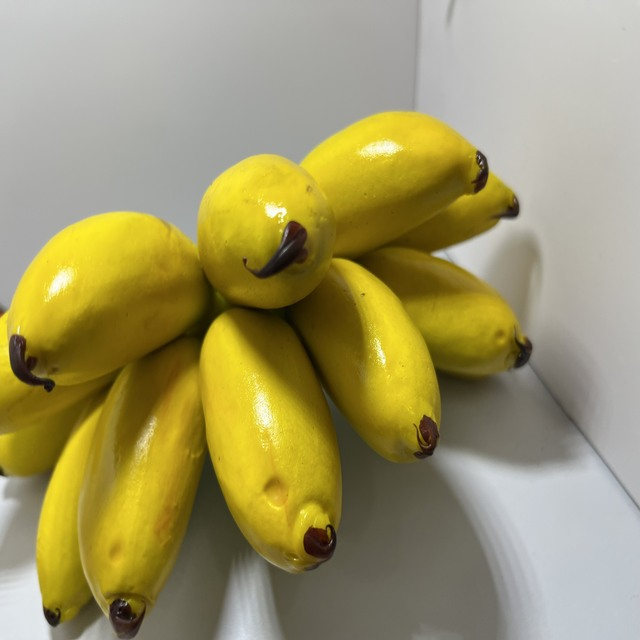Chuoi: (0, 102, 547, 640)
